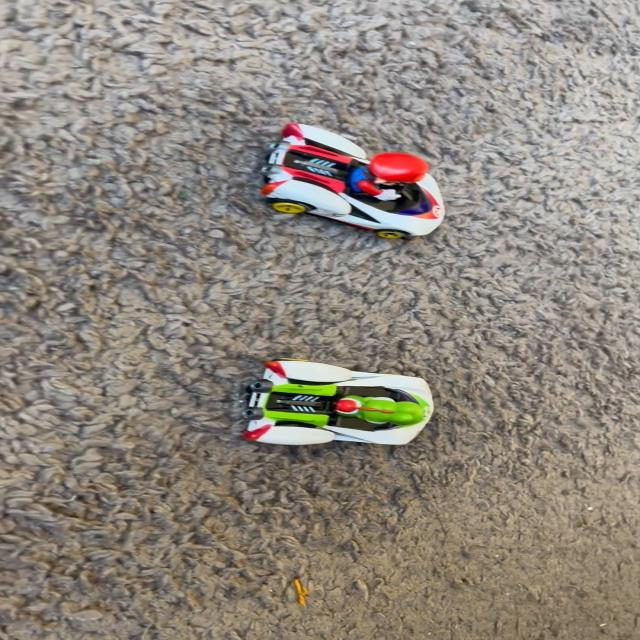mario: (241, 109, 472, 253)
yoshi: (235, 334, 452, 457)
